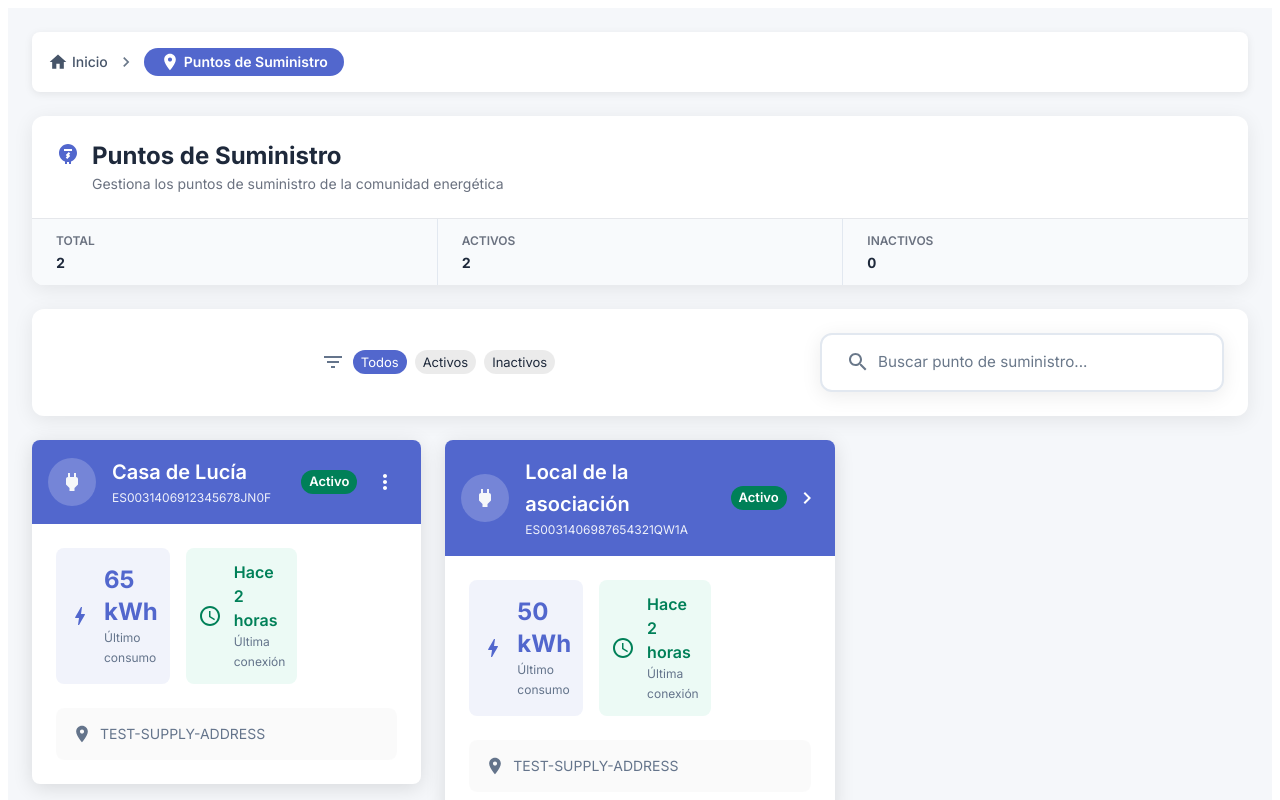
Test: deleting a supply from its card menu › UI-SUP-004 a 403 says the caller may not delete it, and the supply stays
This screenshot has width=1280, height=800.
Check: the heading "Casa de Lucía" is shown, box 112,460 -> 247,484
Click the button named "Más acciones para Casa de Lucía". click: click(385, 482)
box: 365,462 -> 405,502
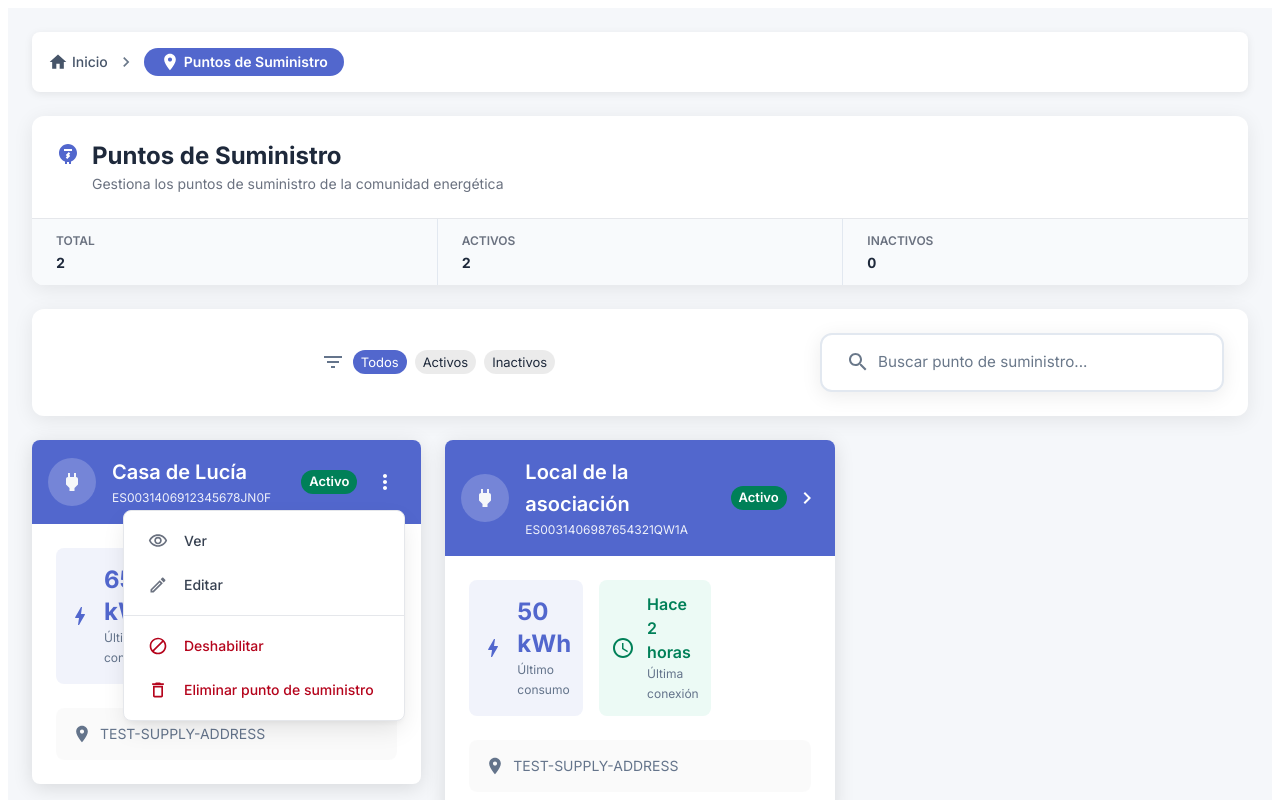
Click the menu item "Eliminar punto de suministro". click: click(261, 690)
box: 148,680 -> 374,700
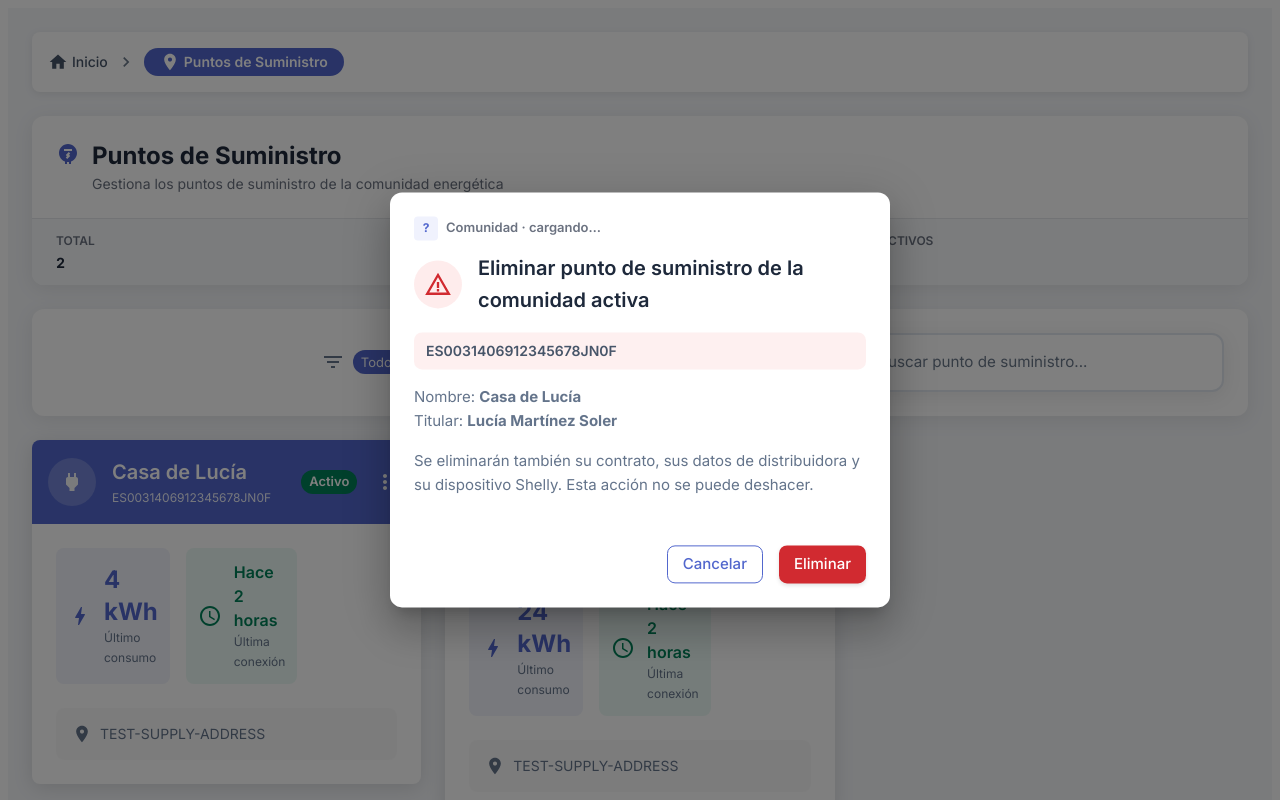
Click the button "Eliminar". click: click(822, 565)
box: 779,545 -> 866,584
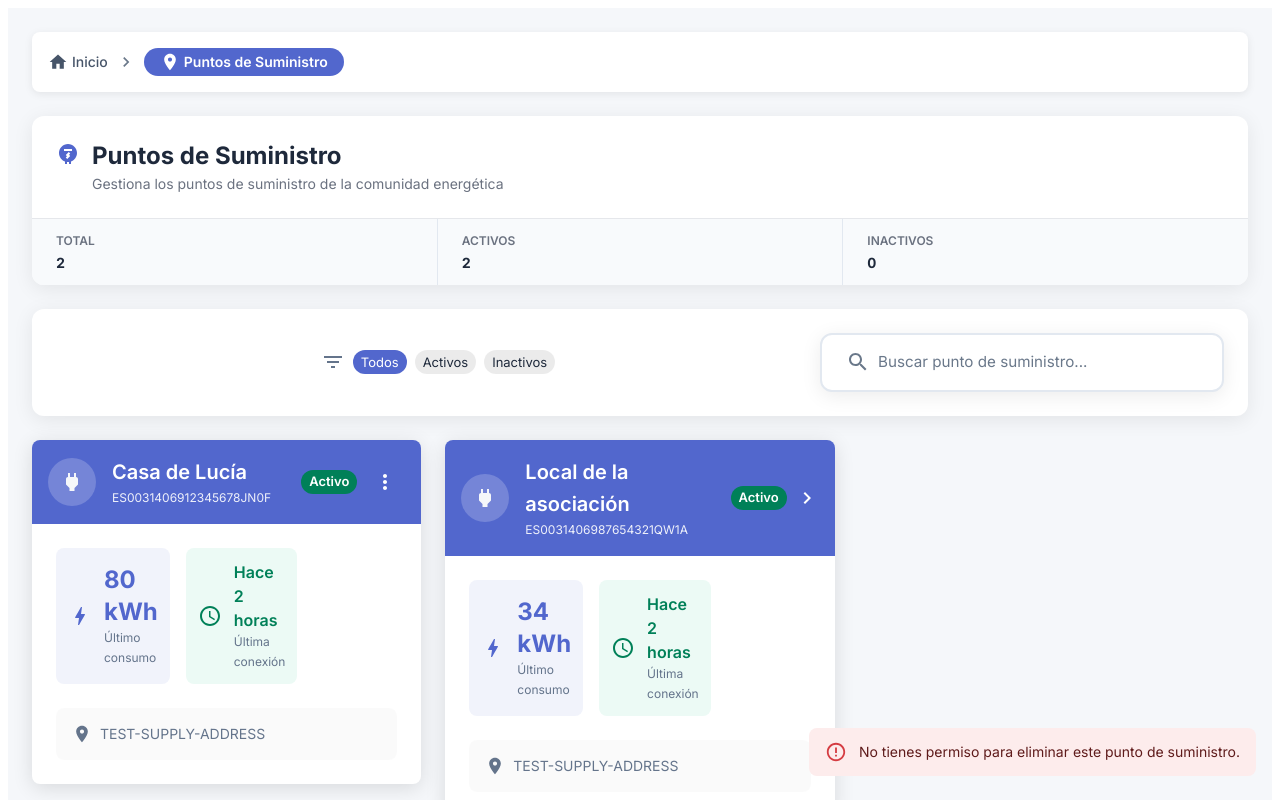
Check: the heading "Casa de Lucía" is shown, box 112,460 -> 247,484
Check: the text "No tienes permiso para eliminar este punto de suministro." is shown, box 859,743 -> 1240,760
